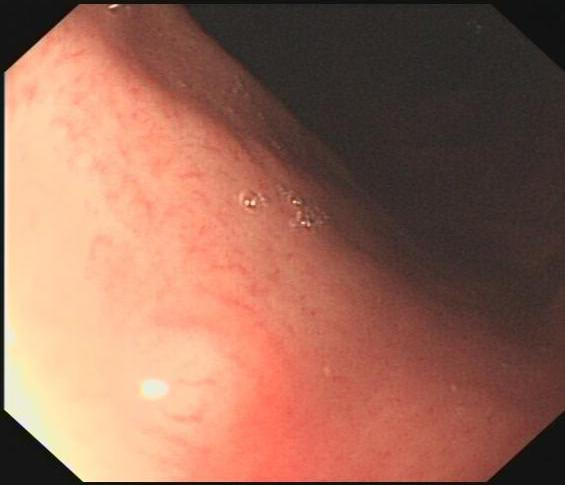Polyp: (106, 303, 298, 473)
